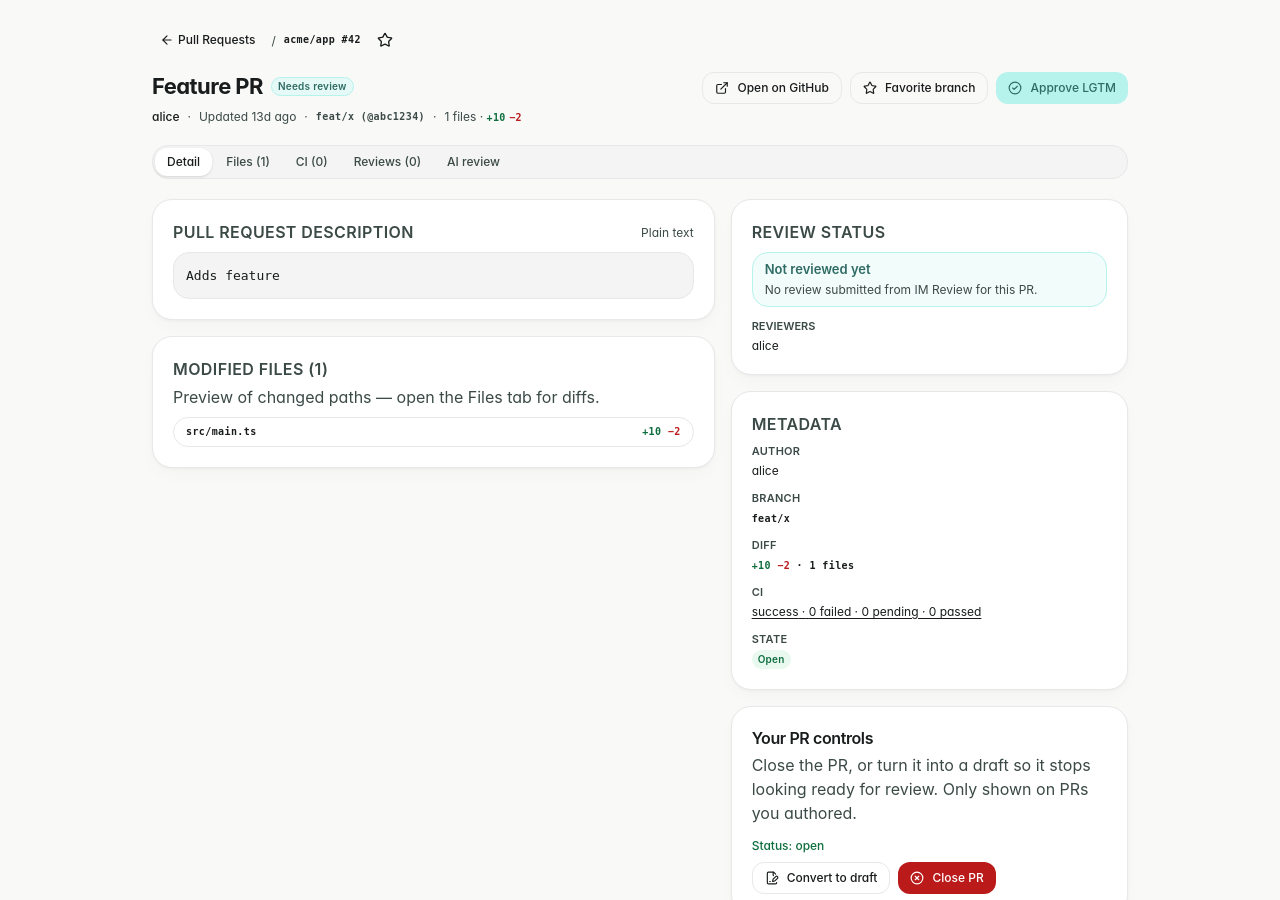
Test case: AiReviewPage › cancels owner confirm dialog
Check: the heading "Feature PR" is shown, box [152,72,263,100]
Click the button "Close PR" at point(947, 878), box [898,862,996,894]
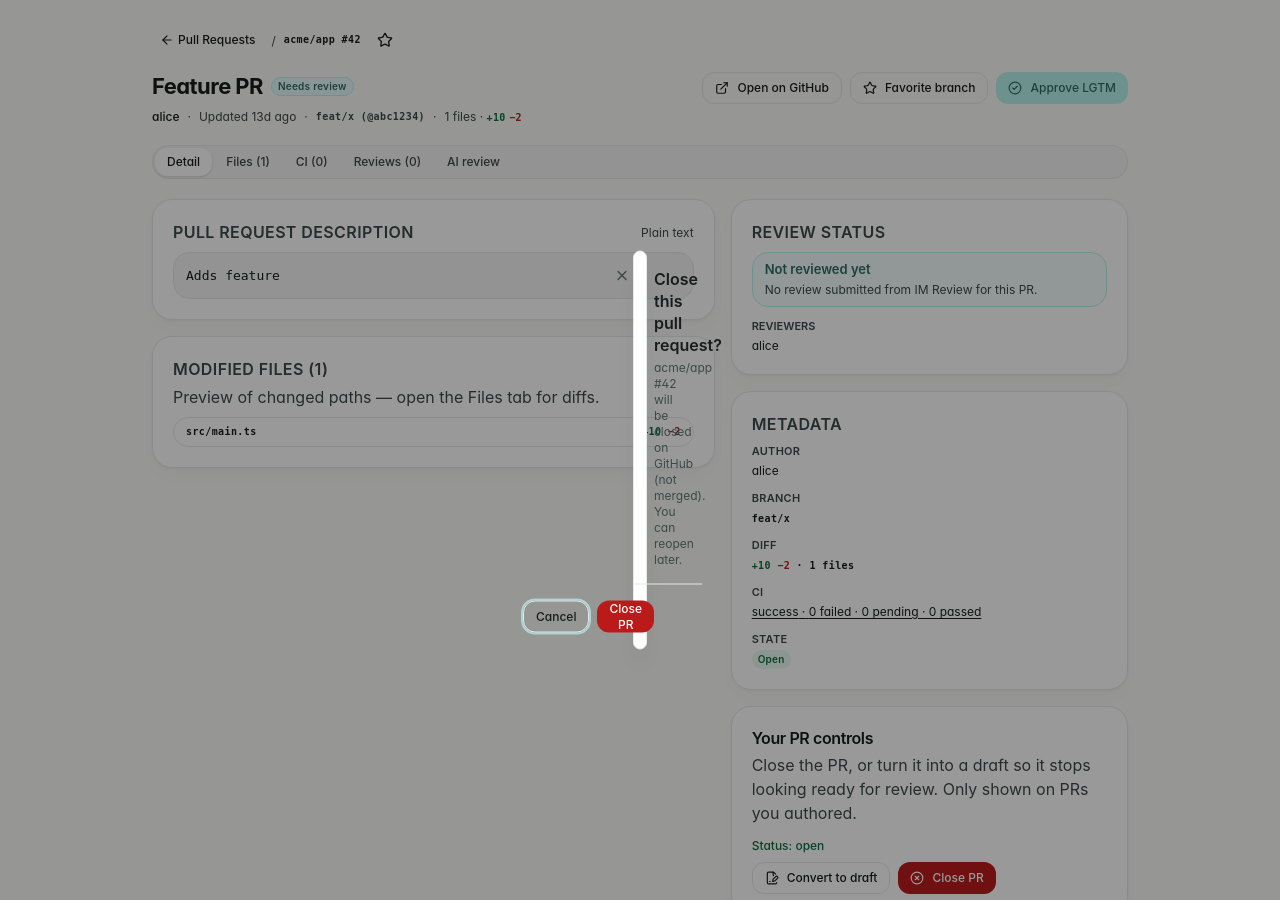
Check: the dialog is shown, box [633,250,647,650]
Press Escape
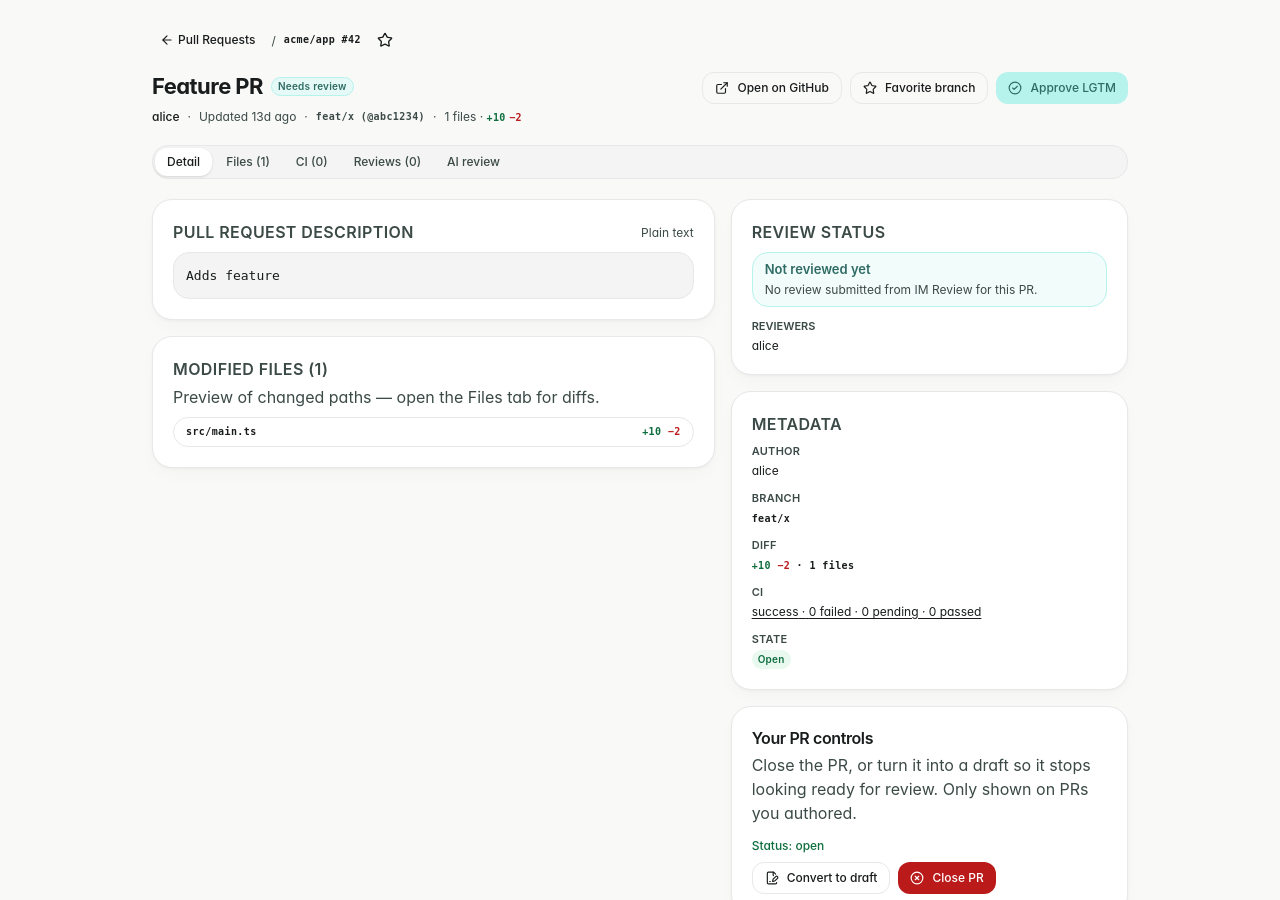
Check: the dialog is gone
